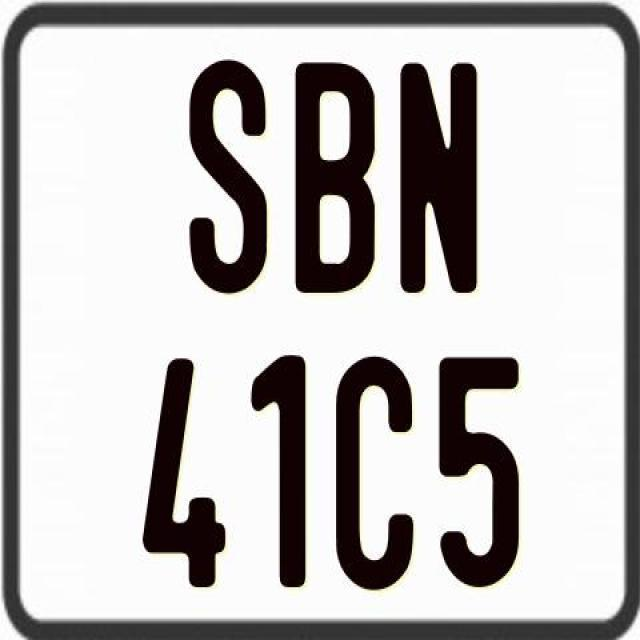1: (250, 352, 306, 587)
4: (141, 357, 231, 586)
5: (436, 353, 516, 588)
B: (294, 62, 374, 298)
C: (336, 356, 422, 596)
N: (398, 61, 482, 293)
S: (188, 55, 271, 292)
